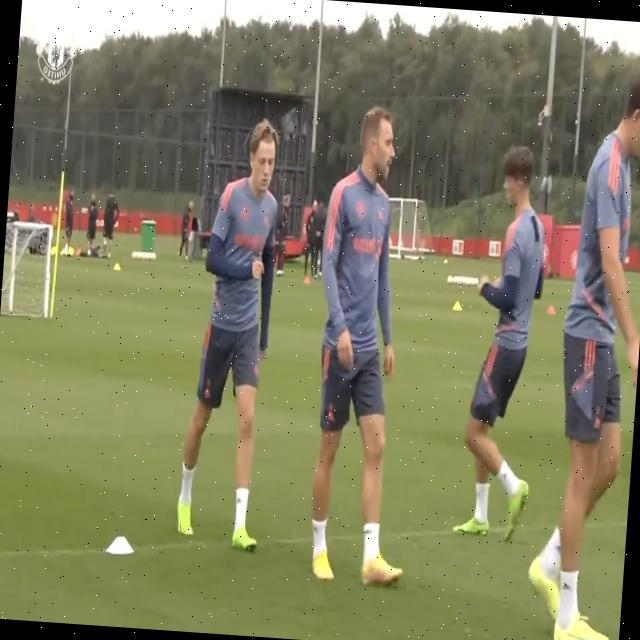Adidas: (325, 409, 336, 424), (202, 384, 210, 400)
